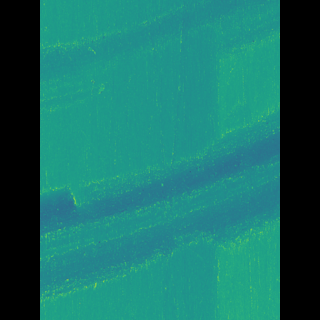Loch: (69, 109, 249, 306), (69, 0, 250, 112)
